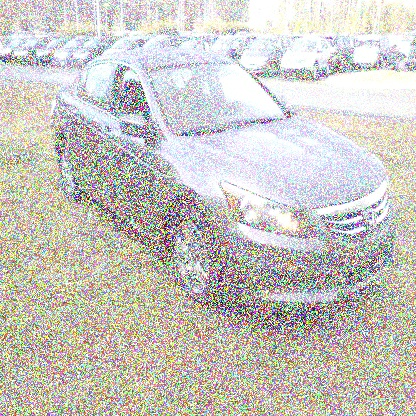Vehicle: (51, 49, 396, 321)
